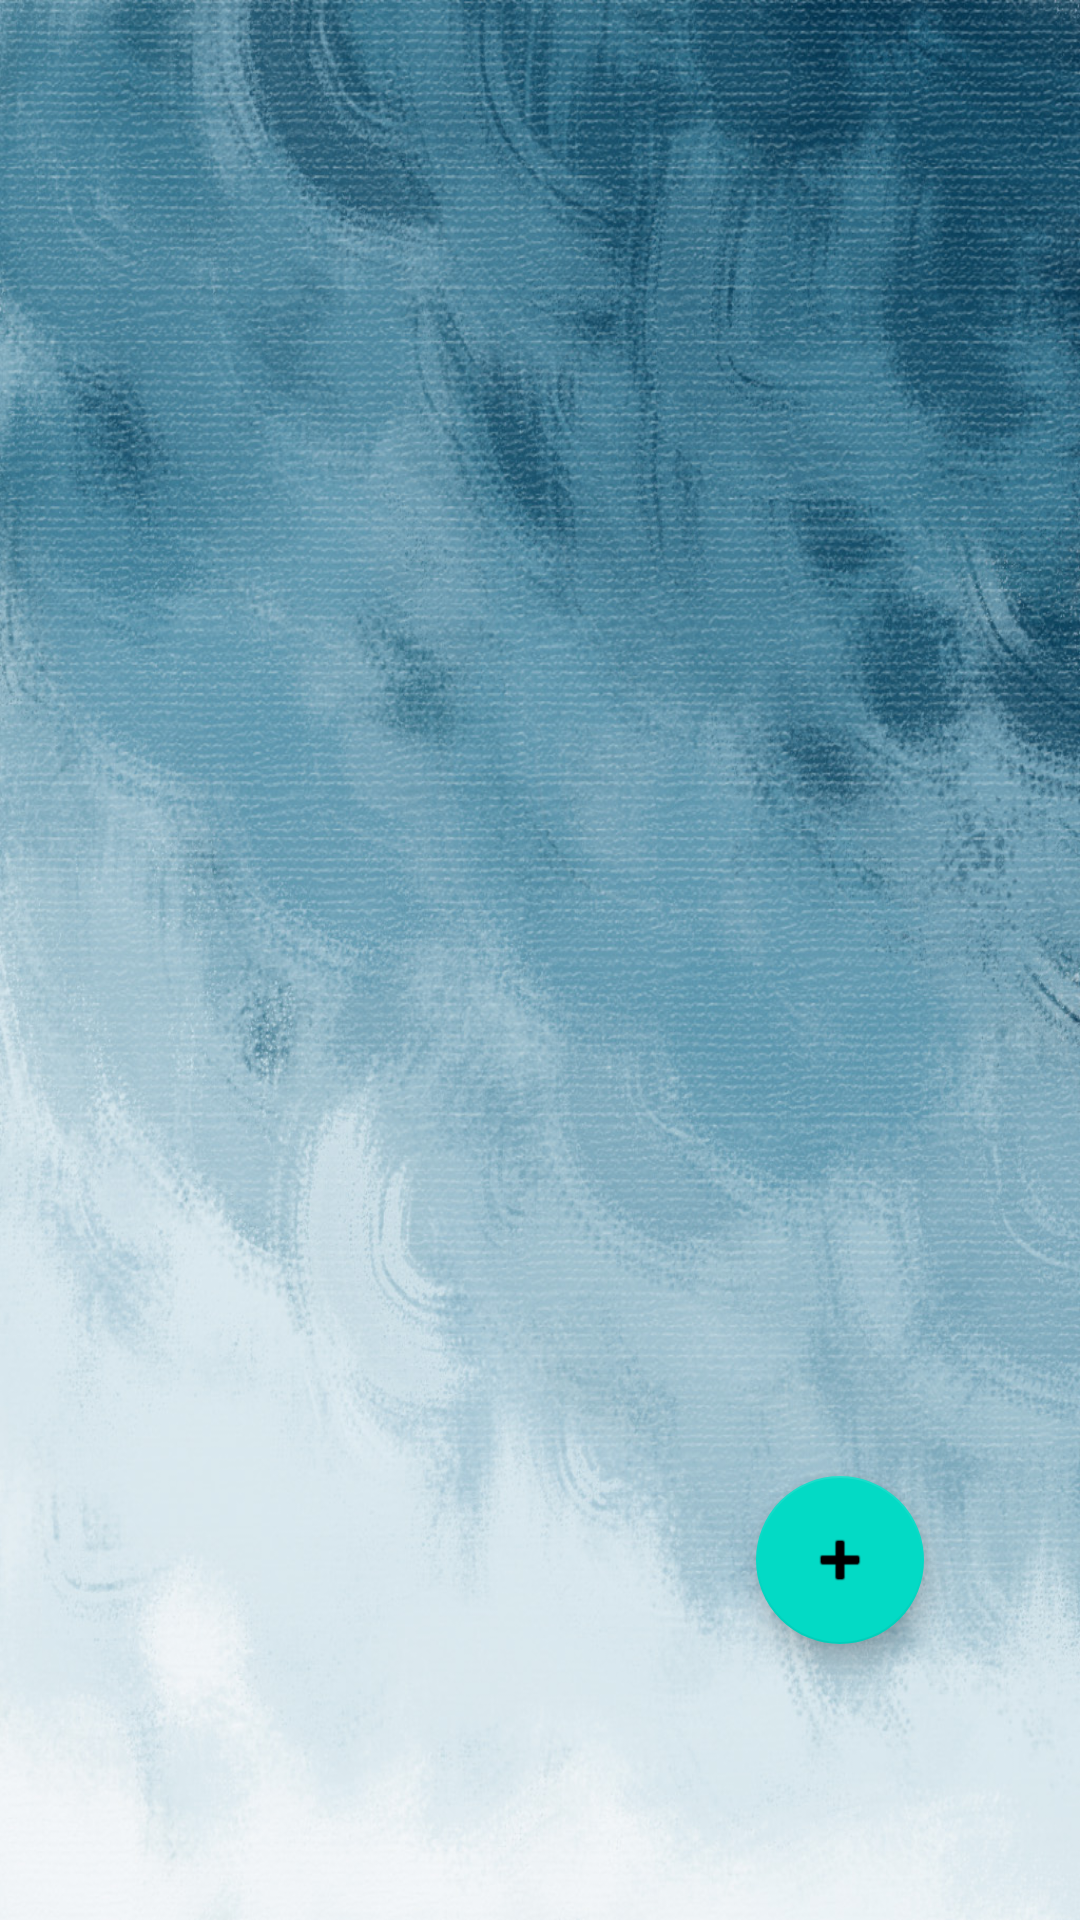

Point at icon controls on the screen. Image size 1080px×1920px, points as [x,y].
add: [840,1560]
